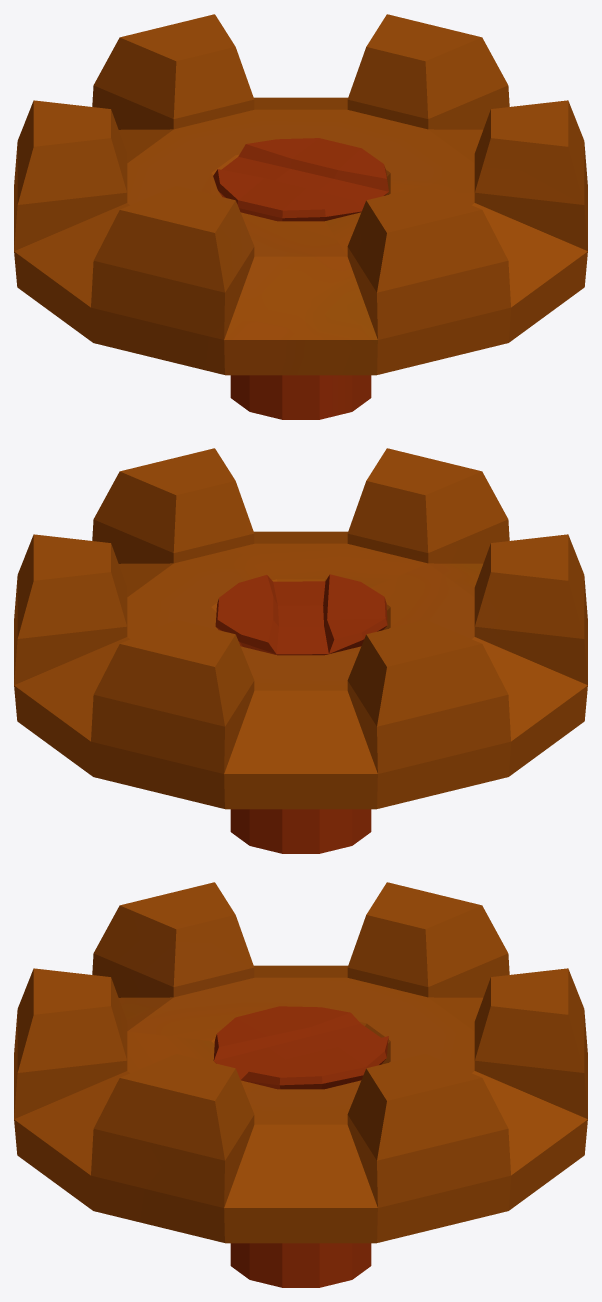
The model's file is obj_gear09_base.gltf.
3 renders of one model, top to bottom at view 1: azimuth 30°, elevation 25°; view 2: azimuth 150°, elevation 25°; view 3: azimuth 270°, elevation 25°, orthographic.
Parts seen in each view (by area): view 1: obj_gear09_base; view 2: obj_gear09_base; view 3: obj_gear09_base.
Boxes of the visible parts, x1=… form: obj_gear09_base: x1=14, y1=14, x2=587, y2=419; obj_gear09_base: x1=14, y1=448, x2=587, y2=853; obj_gear09_base: x1=14, y1=882, x2=587, y2=1287.
Size of what is drawn, in the model's own units: 0.5975 by 0.3062 by 0.5975.
1 material, 1 textured.
